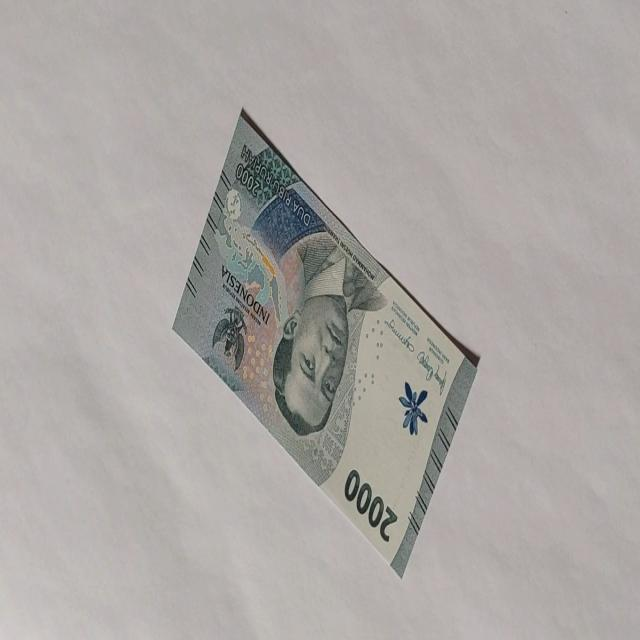dua ribu rupiah: (171, 106, 479, 578), (270, 232, 388, 437), (344, 466, 398, 544)
